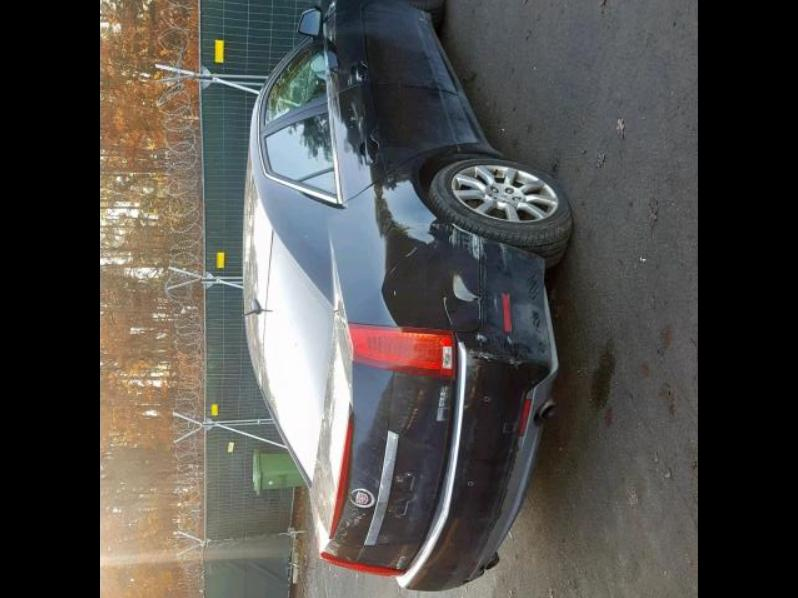Dent: (381, 225, 547, 362)
Flaking: (464, 347, 482, 410)
Scratch: (446, 222, 487, 262), (443, 294, 456, 329), (497, 240, 509, 270), (507, 357, 521, 372), (404, 243, 418, 258), (477, 350, 497, 360), (476, 332, 489, 344), (387, 264, 399, 277), (493, 293, 498, 312), (507, 336, 513, 348)
